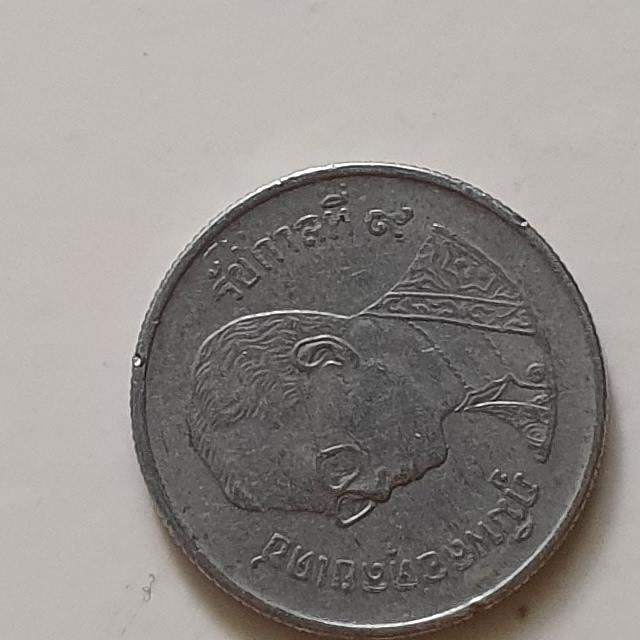1 Bath: (122, 155, 615, 640)
